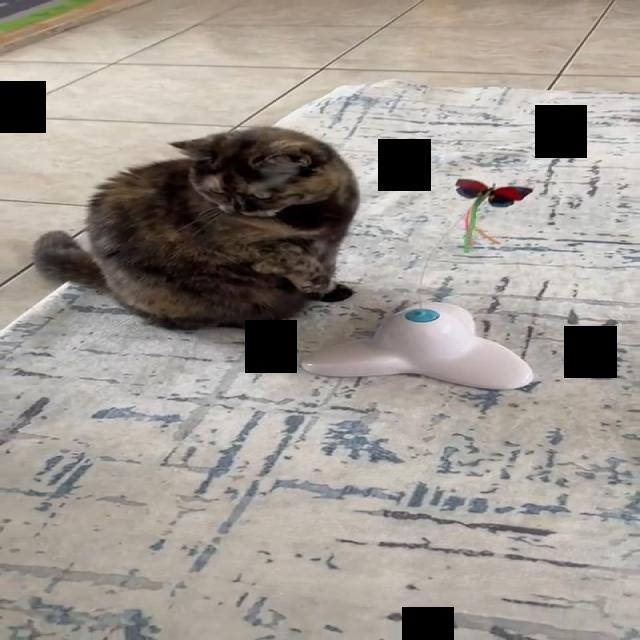authorized: (31, 124, 360, 333)
